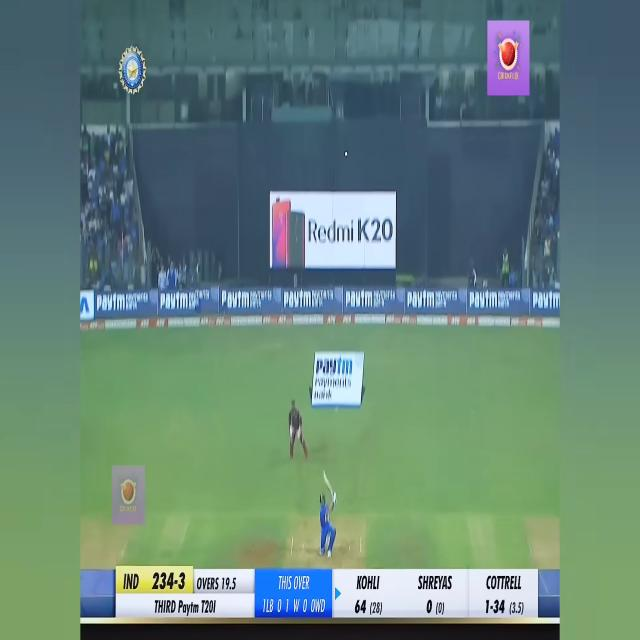fully_visible: (315, 354, 353, 378), (466, 288, 498, 316), (342, 288, 377, 313), (533, 286, 560, 316), (95, 289, 127, 314), (222, 286, 250, 314), (404, 290, 438, 313), (159, 288, 191, 312), (282, 287, 312, 309), (179, 598, 198, 619)
